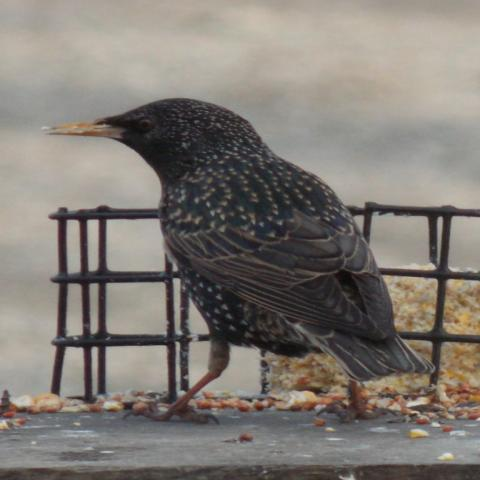bird: (40, 95, 436, 423)
